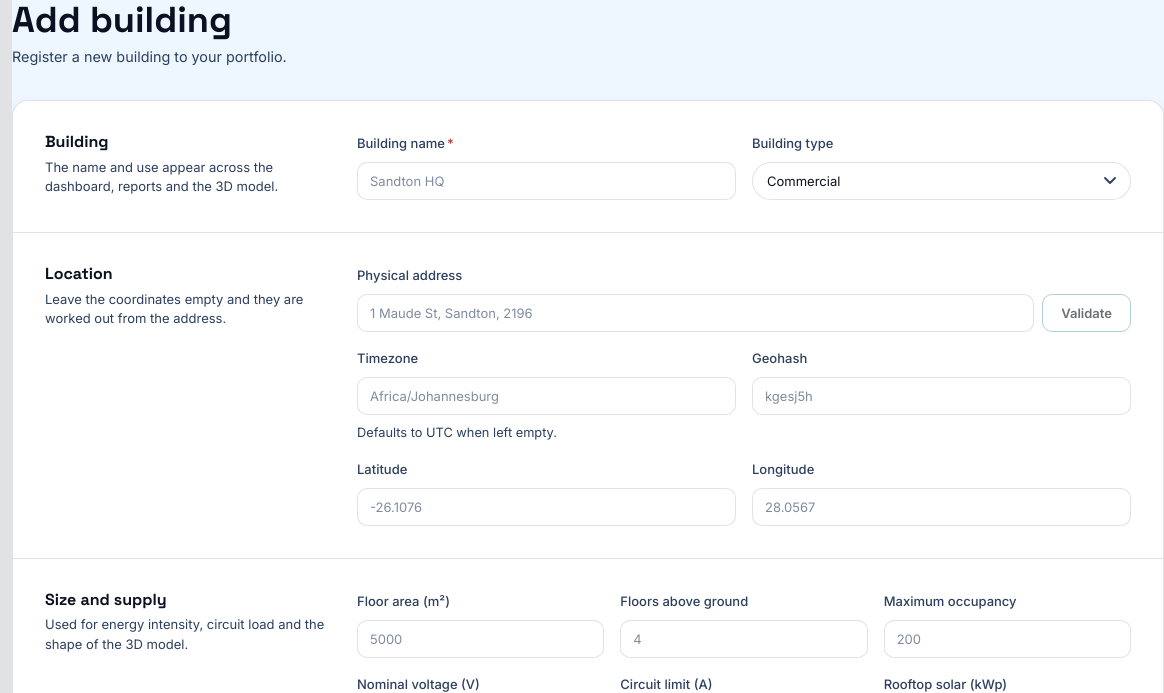
Scenario: AddBuildingPage › Initial render › Validation › shows error when address is less than 5 characters
Step 1. Type "building A" into the field with id "building_name" → (546, 181), box [357,162,736,200]
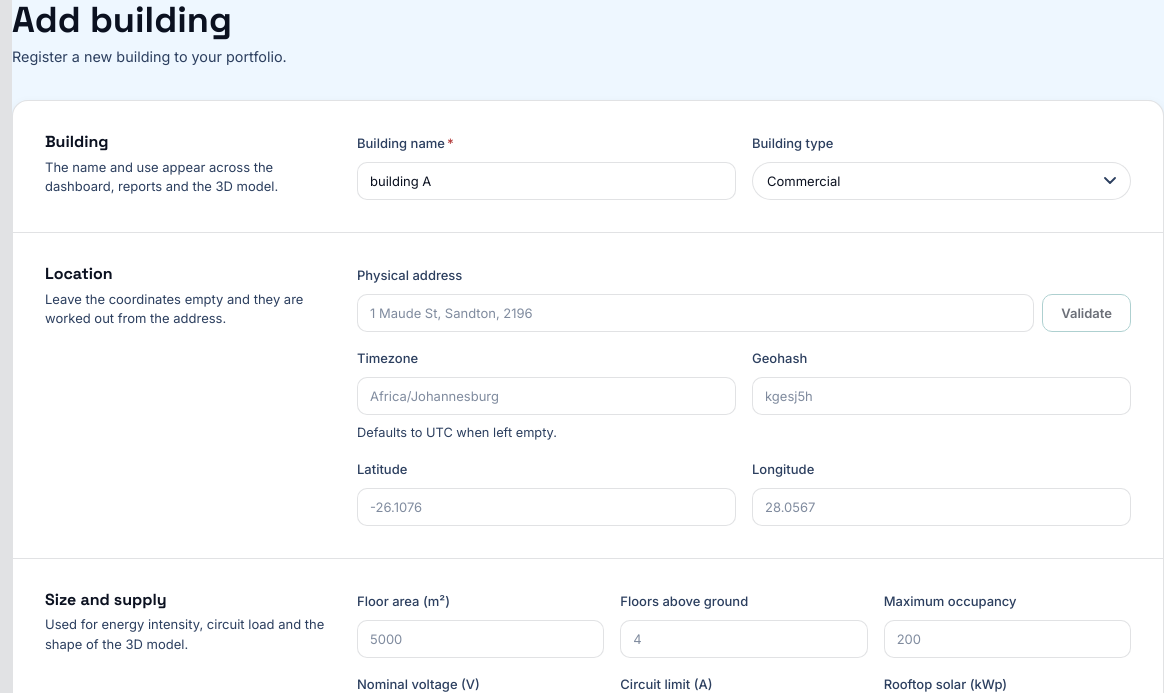
Step 2. Type "111" into the field labelled "Physical address" → (696, 313), box [357,294,1034,332]
(page scrolled)
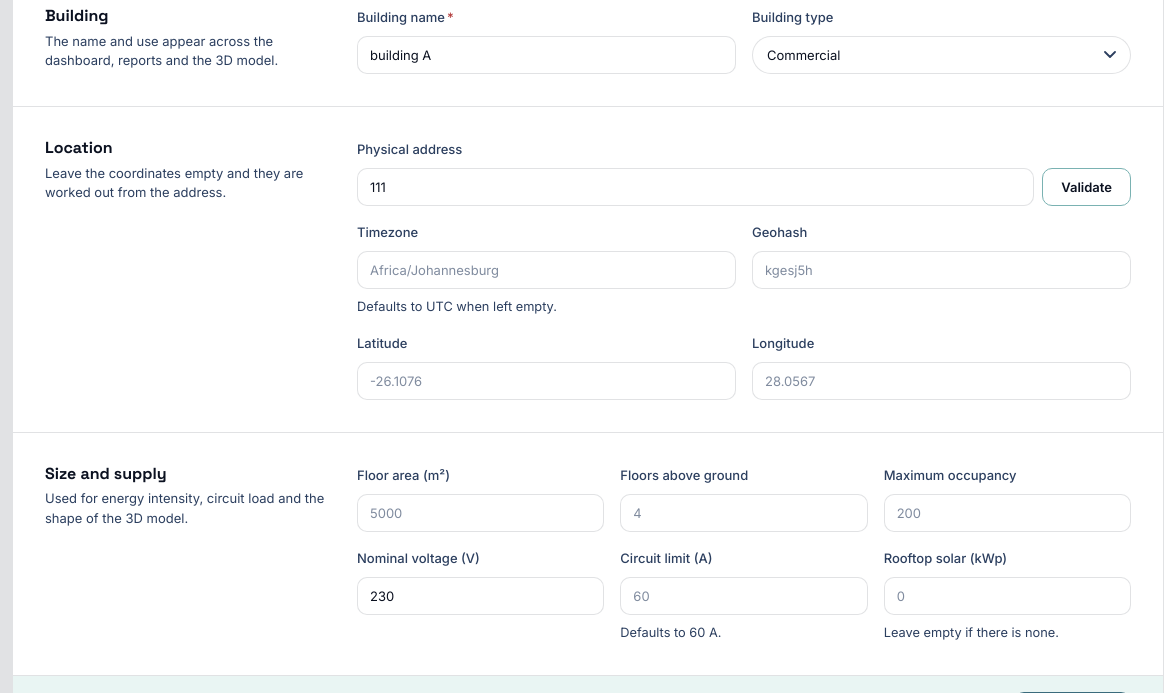
Step 3. Submit the form
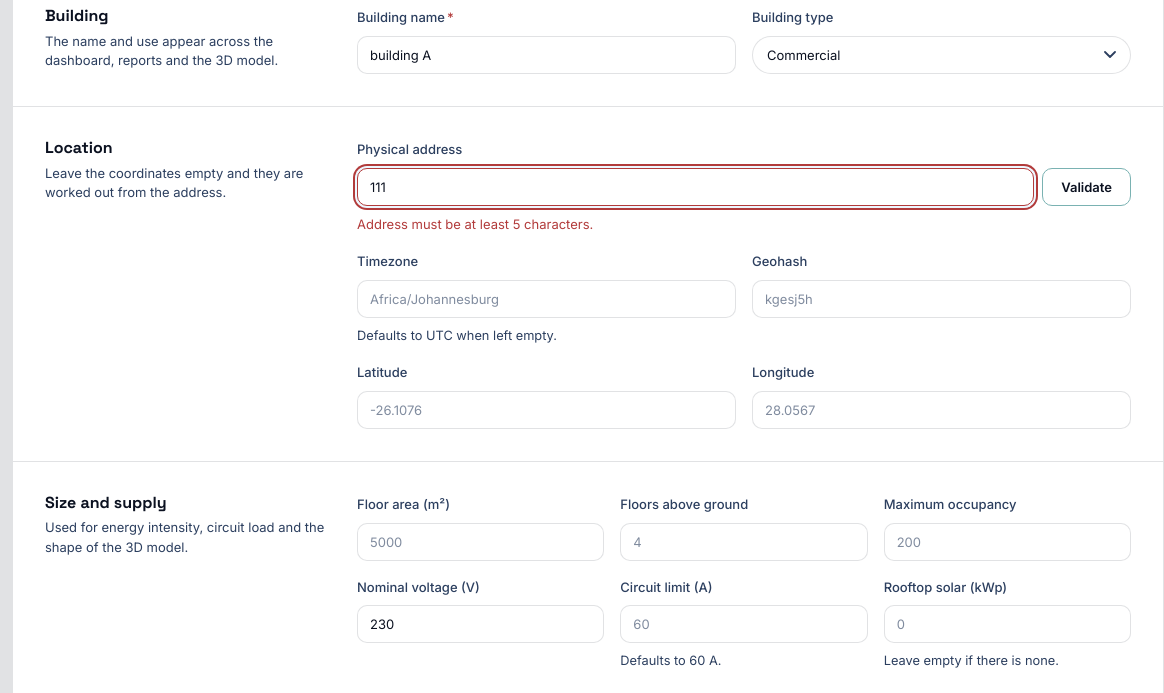
Check: the text "Address must be at least 5 characters." is shown, box [357,216,593,232]
